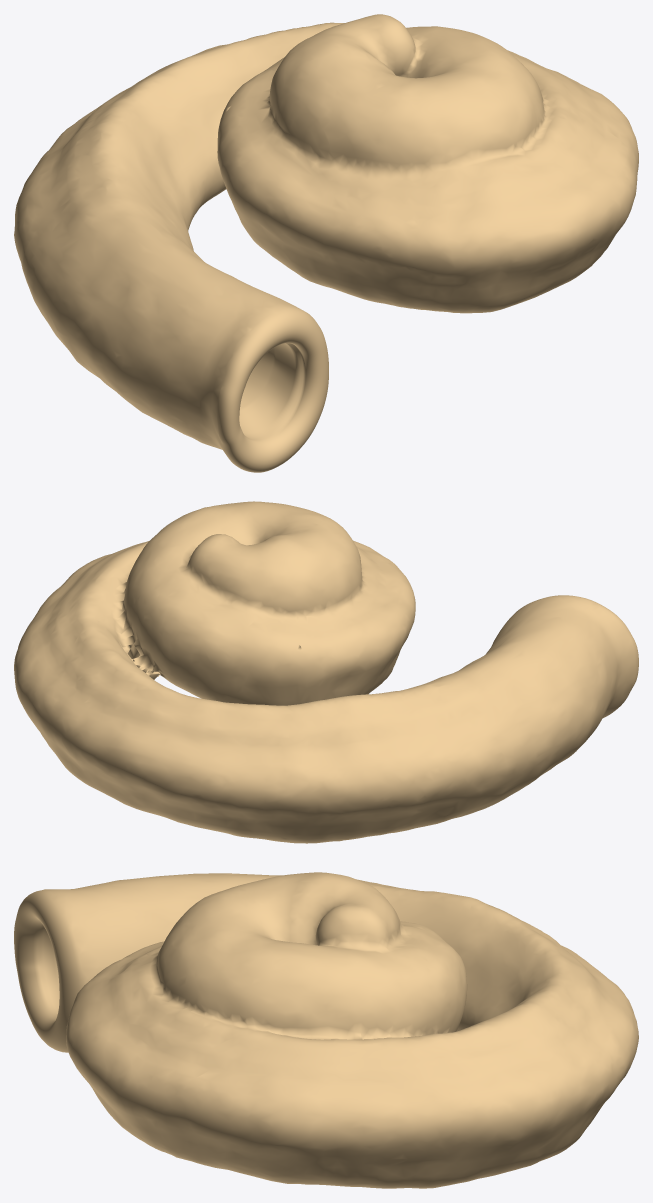
File: olympicetus_cochlea.glb
3 views of the same model, one above another, from view 1: azimuth 30°, elevation 25°; view 2: azimuth 150°, elevation 25°; view 3: azimuth 270°, elevation 25° (orthographic). The views are drawn at different scales.
Parts seen in each view (by area): view 1: simocetid_cf_Olympicetus_Cochlea_Hollow; view 2: simocetid_cf_Olympicetus_Cochlea_Hollow; view 3: simocetid_cf_Olympicetus_Cochlea_Hollow.
Part boxes in pixels (<box>): simocetid_cf_Olympicetus_Cochlea_Hollow: <box>14,14,638,472</box>; simocetid_cf_Olympicetus_Cochlea_Hollow: <box>14,501,638,843</box>; simocetid_cf_Olympicetus_Cochlea_Hollow: <box>14,872,638,1188</box>.
Size of the model in its own units: 10 by 4.59 by 9.83.
